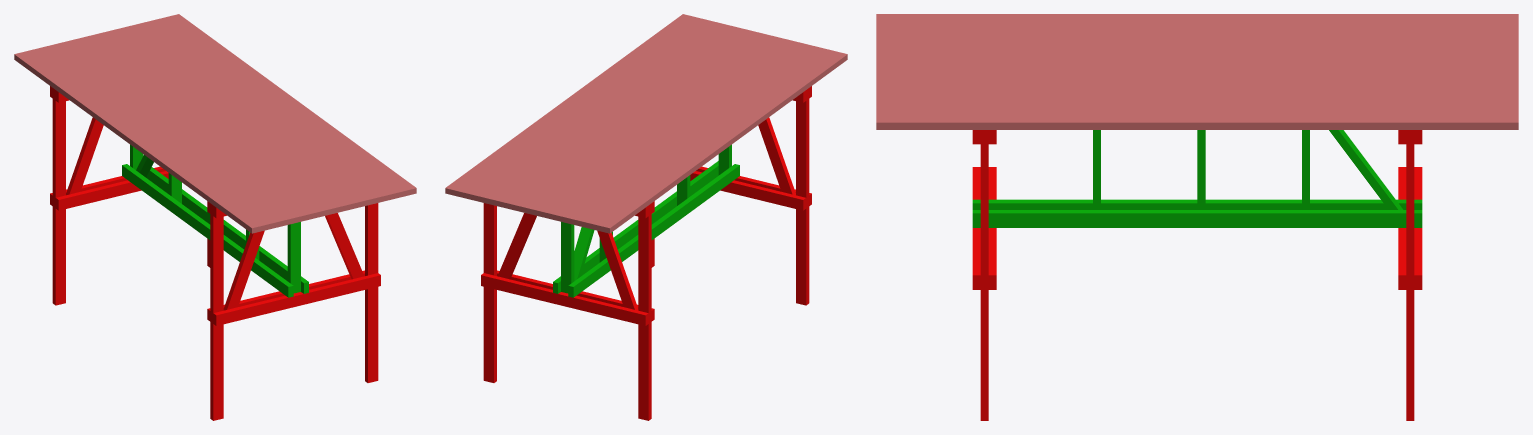
Rendered from result.glb.
3 renders of one model, left to right at view 1: azimuth 30°, elevation 25°; view 2: azimuth 150°, elevation 25°; view 3: azimuth 270°, elevation 25°, orthographic. The views are drawn at different scales.
Visible parts, largest first — view 1: c7b17f2d-1b48-482d-9540-e4eab7ad3d7b__Box, f0246c14-1378-42b5-94d0-f18473196561__undefined, 0ed1e961-4375-4f79-b0ed-4e2a27249d82__sideV, 9acf730d-004d-452c-89ad-92fb42ca00a8__undefined, 9dbc5e9f-9f72-4095-8d81-24faf96e3e6a__undefined, b3932037-37a7-4f8e-a882-9dd438ce09d9__undefined, fd46f752-5182-42d6-addc-2ee00859badb__undefined, 118b205b-3ad8-4113-a2dd-2578a059f108__undefined, 2d7a144b-7b26-43b3-923a-63d4a1d10218__undefined, d22c0a73-2e14-4997-99f7-5da5133b9b39__undefined, 7092451d-4c42-4a63-81ae-5261e7d82e33__undefined, 4926e35c-9e70-467d-9e30-df331a9cc0f1__undefined (+17 smaller); view 2: c7b17f2d-1b48-482d-9540-e4eab7ad3d7b__Box, 0ed1e961-4375-4f79-b0ed-4e2a27249d82__sideV, f0246c14-1378-42b5-94d0-f18473196561__undefined, 9acf730d-004d-452c-89ad-92fb42ca00a8__undefined, 9dbc5e9f-9f72-4095-8d81-24faf96e3e6a__undefined, b3932037-37a7-4f8e-a882-9dd438ce09d9__undefined, fd46f752-5182-42d6-addc-2ee00859badb__undefined, 118b205b-3ad8-4113-a2dd-2578a059f108__undefined, 2d7a144b-7b26-43b3-923a-63d4a1d10218__undefined, d22c0a73-2e14-4997-99f7-5da5133b9b39__undefined, 7092451d-4c42-4a63-81ae-5261e7d82e33__undefined, 4926e35c-9e70-467d-9e30-df331a9cc0f1__undefined (+18 smaller); view 3: 498412f4-d89d-4051-adbf-fd62cda69714__undefined, 66655a5a-f951-41b0-b472-ff48b1b9e002__strutH, b3932037-37a7-4f8e-a882-9dd438ce09d9__undefined, 9dbc5e9f-9f72-4095-8d81-24faf96e3e6a__undefined, 9acf730d-004d-452c-89ad-92fb42ca00a8__undefined, fd46f752-5182-42d6-addc-2ee00859badb__undefined, 4926e35c-9e70-467d-9e30-df331a9cc0f1__undefined, d3aaf3ce-70fd-4164-b338-1cda62645b76__undefined, c7b17f2d-1b48-482d-9540-e4eab7ad3d7b__Box, e5fa79fe-6b2e-4d1a-816b-e0e6a0c139d8__undefined, e9894655-7088-4f76-afe5-f184e91ec598__undefined, 7092451d-4c42-4a63-81ae-5261e7d82e33__undefined (+16 smaller).
Boxes of the visible parts, box(x1,y1,x2,y2) form: c7b17f2d-1b48-482d-9540-e4eab7ad3d7b__Box: box(14, 51, 262, 233); f0246c14-1378-42b5-94d0-f18473196561__undefined: box(52, 88, 65, 305); 0ed1e961-4375-4f79-b0ed-4e2a27249d82__sideV: box(210, 203, 223, 420); 9acf730d-004d-452c-89ad-92fb42ca00a8__undefined: box(76, 36, 323, 218); 9dbc5e9f-9f72-4095-8d81-24faf96e3e6a__undefined: box(35, 46, 282, 228); b3932037-37a7-4f8e-a882-9dd438ce09d9__undefined: box(25, 49, 272, 230); fd46f752-5182-42d6-addc-2ee00859badb__undefined: box(86, 34, 334, 215); 118b205b-3ad8-4113-a2dd-2578a059f108__undefined: box(117, 26, 365, 208); 2d7a144b-7b26-43b3-923a-63d4a1d10218__undefined: box(148, 19, 396, 200); d22c0a73-2e14-4997-99f7-5da5133b9b39__undefined: box(159, 16, 406, 198); 7092451d-4c42-4a63-81ae-5261e7d82e33__undefined: box(66, 39, 313, 220); 4926e35c-9e70-467d-9e30-df331a9cc0f1__undefined: box(127, 24, 375, 205); c7b17f2d-1b48-482d-9540-e4eab7ad3d7b__Box: box(599, 51, 847, 233); 0ed1e961-4375-4f79-b0ed-4e2a27249d82__sideV: box(796, 88, 809, 305); f0246c14-1378-42b5-94d0-f18473196561__undefined: box(638, 203, 651, 420); 9acf730d-004d-452c-89ad-92fb42ca00a8__undefined: box(538, 36, 785, 218); 9dbc5e9f-9f72-4095-8d81-24faf96e3e6a__undefined: box(579, 46, 826, 228); b3932037-37a7-4f8e-a882-9dd438ce09d9__undefined: box(589, 49, 836, 230); fd46f752-5182-42d6-addc-2ee00859badb__undefined: box(527, 34, 775, 215); 118b205b-3ad8-4113-a2dd-2578a059f108__undefined: box(496, 26, 744, 208); 2d7a144b-7b26-43b3-923a-63d4a1d10218__undefined: box(465, 19, 713, 200); d22c0a73-2e14-4997-99f7-5da5133b9b39__undefined: box(455, 16, 702, 198); 7092451d-4c42-4a63-81ae-5261e7d82e33__undefined: box(548, 39, 795, 220); 4926e35c-9e70-467d-9e30-df331a9cc0f1__undefined: box(486, 24, 734, 205); 498412f4-d89d-4051-adbf-fd62cda69714__undefined: box(876, 115, 1518, 129); 66655a5a-f951-41b0-b472-ff48b1b9e002__strutH: box(972, 210, 1422, 227); b3932037-37a7-4f8e-a882-9dd438ce09d9__undefined: box(876, 20, 1518, 27); 9dbc5e9f-9f72-4095-8d81-24faf96e3e6a__undefined: box(876, 27, 1518, 34); 9acf730d-004d-452c-89ad-92fb42ca00a8__undefined: box(876, 54, 1518, 61); fd46f752-5182-42d6-addc-2ee00859badb__undefined: box(876, 61, 1518, 68); 4926e35c-9e70-467d-9e30-df331a9cc0f1__undefined: box(876, 88, 1518, 95); d3aaf3ce-70fd-4164-b338-1cda62645b76__undefined: box(876, 95, 1518, 102); c7b17f2d-1b48-482d-9540-e4eab7ad3d7b__Box: box(876, 14, 1518, 20); e5fa79fe-6b2e-4d1a-816b-e0e6a0c139d8__undefined: box(876, 34, 1518, 40); e9894655-7088-4f76-afe5-f184e91ec598__undefined: box(876, 41, 1518, 47); 7092451d-4c42-4a63-81ae-5261e7d82e33__undefined: box(876, 48, 1518, 54).
Bounding box in the file's own units: 800 × 1025 × 2000.
